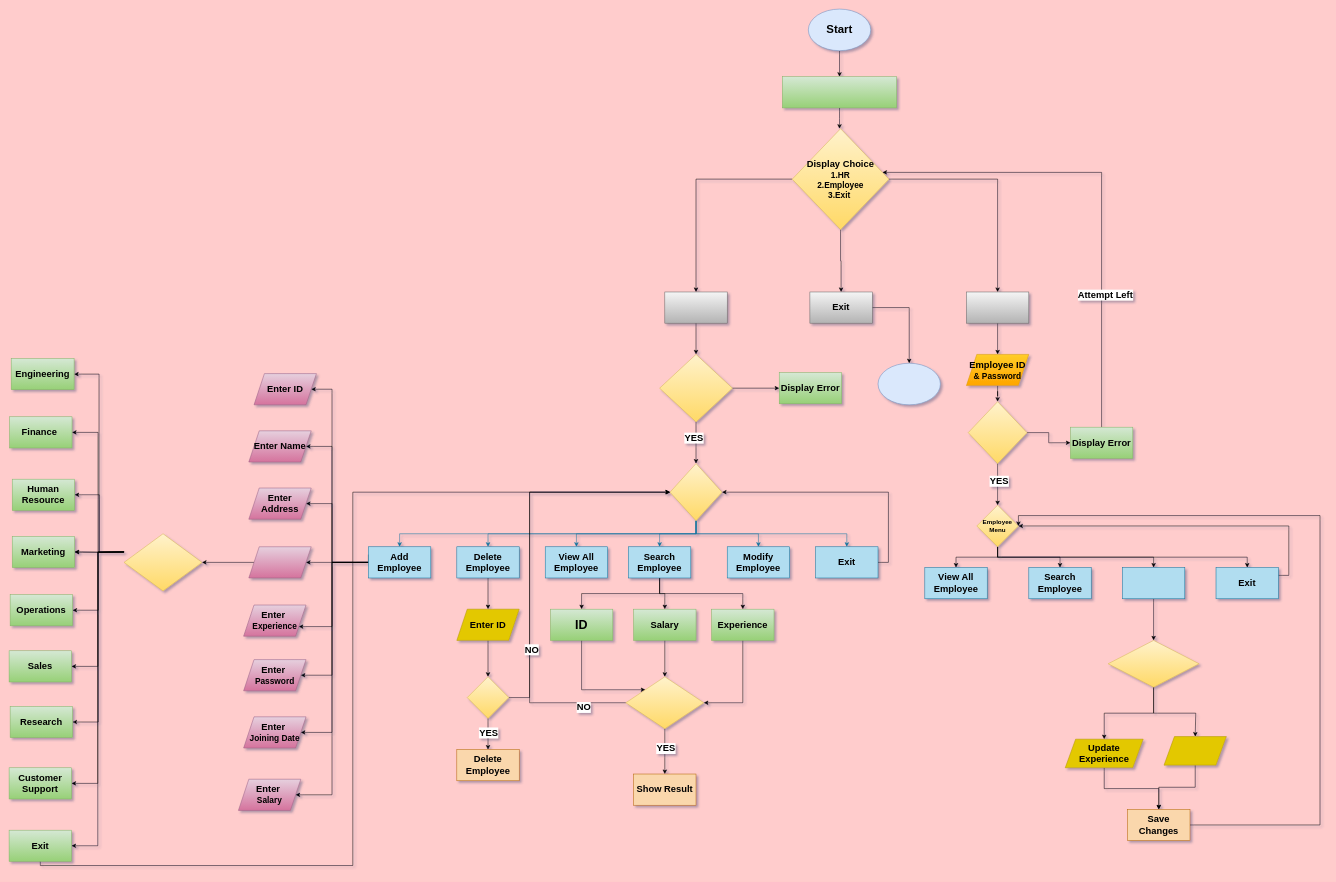
Image size: 1336x882. Some labels were removed from this diagram. Here are the shapes that lost their labels. From the top down, the centre of each, then its label:
At point (839, 92): "Import Employee and HR detail from File".
At point (695, 307): "HR Login".
At point (997, 307): "Employee Login".
At point (695, 388): "Check HR ID & Password".
At point (909, 384): "End".
At point (997, 432): "IF TRUE ID and Password".
At point (696, 492): "HR Menu".
At point (163, 562): "Department list".
At point (279, 562): "Enter Department".
At point (1153, 583): "Modify Profile".
At point (1153, 663): "Modify By".
At point (488, 697): "Valid ID".
At point (664, 702): "If Valid ID , Salary or Experience".
At point (1195, 750): "Update Address".
